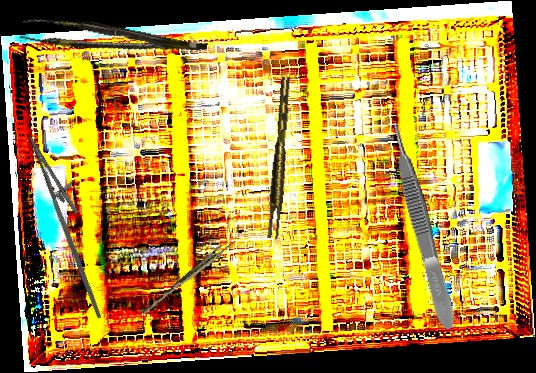Needle Holder: (6, 128, 137, 320)
Tissue Forceps: (386, 119, 459, 332), (19, 8, 208, 74), (139, 235, 236, 319), (262, 76, 298, 240)
